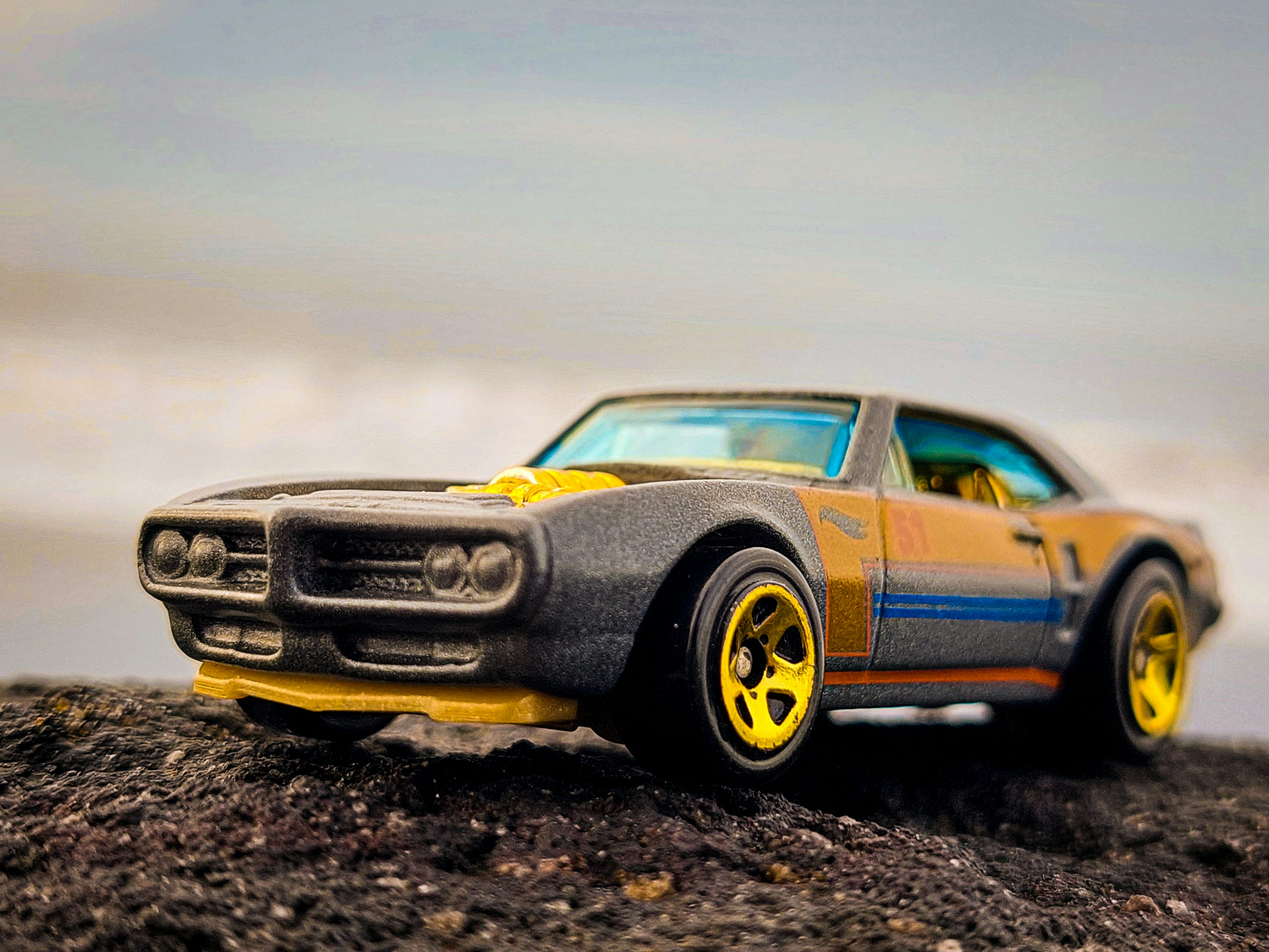Car: (137, 392, 1224, 771)
